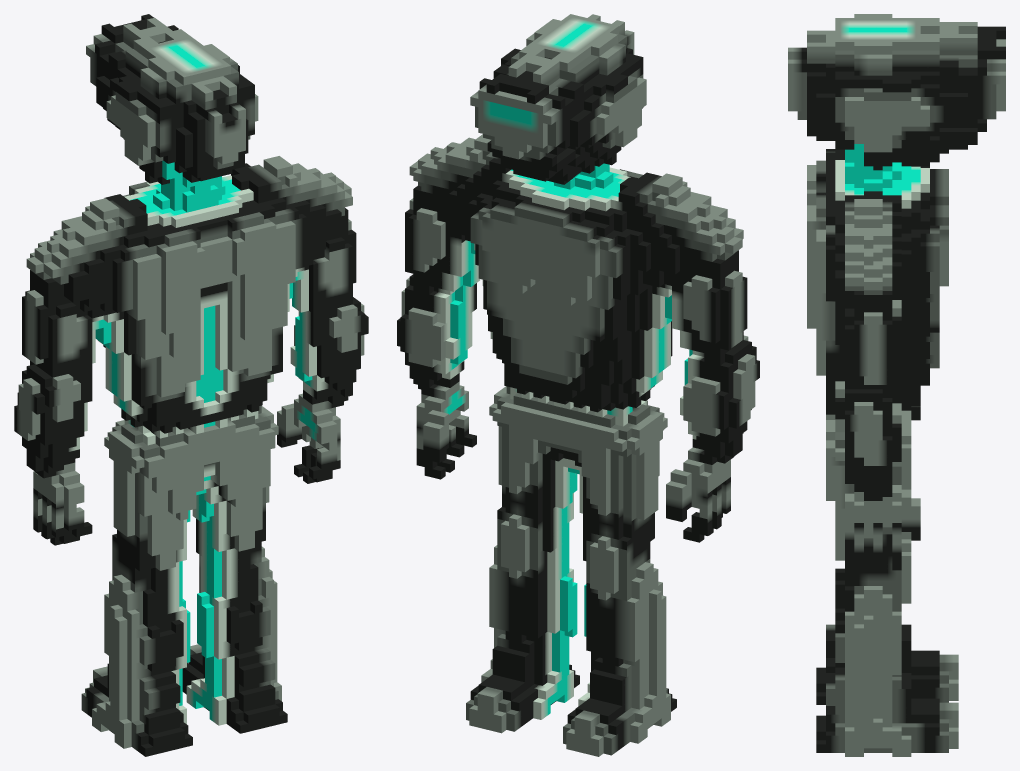
File: Colortest.fbx
3 renders of one model, left to right at view 1: azimuth 30°, elevation 25°; view 2: azimuth 150°, elevation 25°; view 3: azimuth 270°, elevation 25°, orthographic. The views are drawn at different scales.
Bounding box in the file's own units: 42 × 80 × 23.
Materials: 1 (1 with a texture image).
